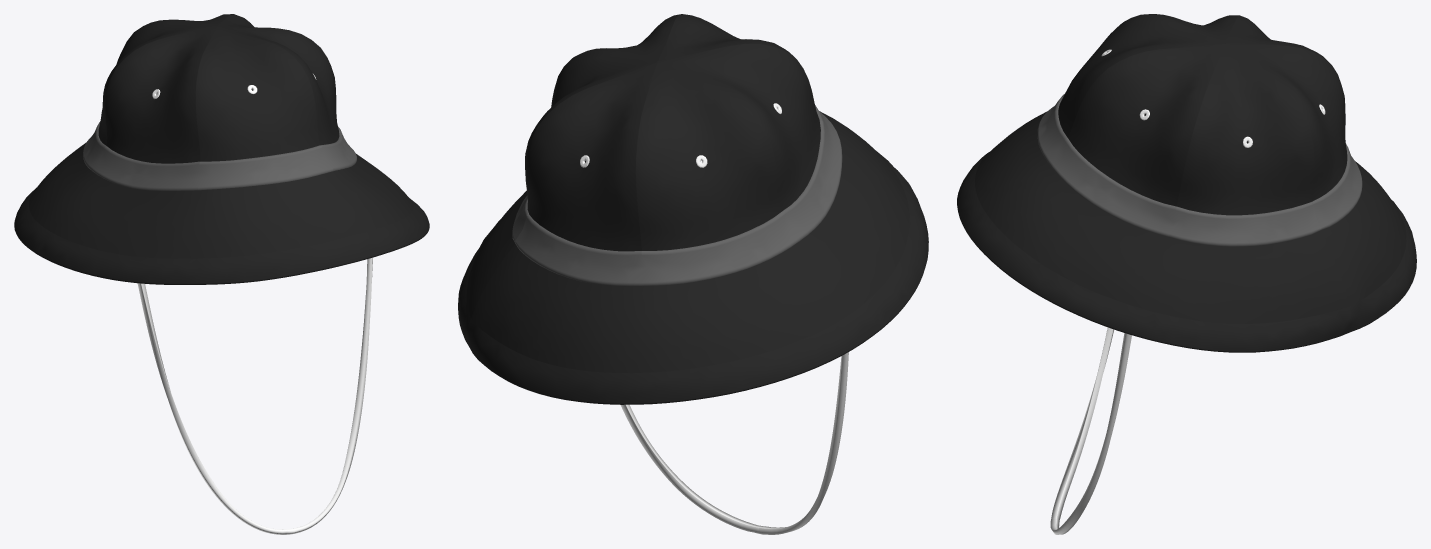
File: hat.glb
The picture shows the model from 3 angles, left to right: view 1: azimuth 30°, elevation 25°; view 2: azimuth 150°, elevation 25°; view 3: azimuth 270°, elevation 25°; orthographic projection. The views are drawn at different scales.
Visible parts, largest first — view 1: Object_2, Object_6, Object_4, Object_3; view 2: Object_2, Object_6, Object_4, Object_3; view 3: Object_2, Object_6, Object_4, Object_3.
Part boxes in pixels (x1,y1,x2,y2): Object_2: (14, 14, 429, 283); Object_6: (83, 121, 356, 190); Object_4: (137, 257, 372, 534); Object_3: (14, 14, 429, 284); Object_2: (458, 14, 928, 403); Object_6: (512, 105, 842, 286); Object_4: (620, 352, 848, 534); Object_3: (467, 15, 928, 404); Object_2: (957, 14, 1416, 351); Object_6: (1037, 94, 1362, 246); Object_4: (1050, 327, 1131, 534); Object_3: (957, 14, 1412, 352).
Bounding box in the file's own units: 310 × 390 × 332.
Materials: 4 (4 with a texture image).
